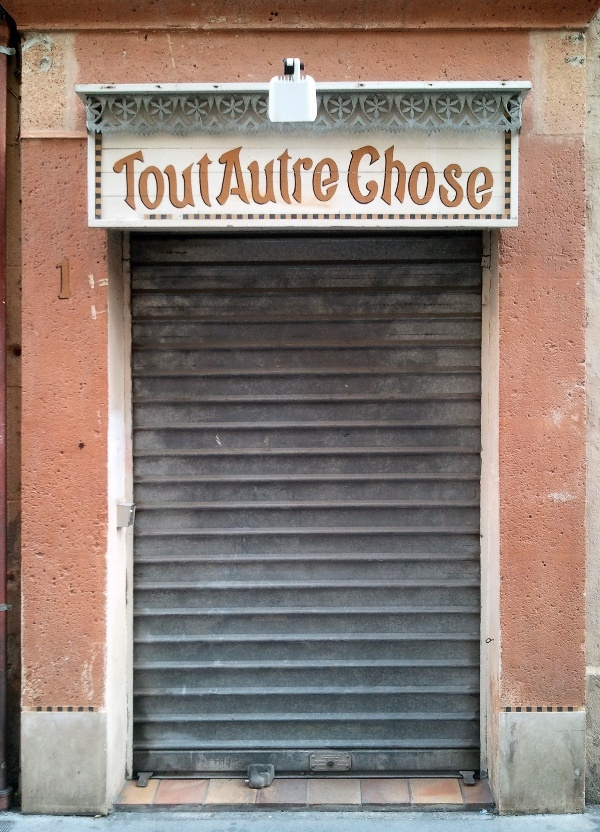text: (353, 142, 368, 212), (369, 142, 384, 212), (385, 142, 400, 212), (401, 142, 416, 212), (417, 142, 432, 212), (433, 142, 448, 212), (449, 142, 464, 212), (465, 142, 480, 212), (481, 142, 495, 212), (113, 149, 128, 212), (129, 149, 144, 212), (145, 149, 160, 212), (161, 149, 176, 212), (177, 149, 192, 212), (193, 149, 208, 212), (225, 145, 240, 206), (241, 145, 256, 206), (257, 145, 272, 206), (273, 145, 288, 206), (289, 145, 304, 206), (305, 145, 320, 206), (321, 145, 336, 206), (49, 244, 64, 305), (65, 244, 80, 305), (216, 145, 224, 206), (347, 142, 352, 212), (209, 149, 214, 212), (337, 145, 339, 206)
